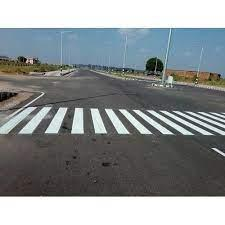crosswalk: (13, 97, 225, 154)
